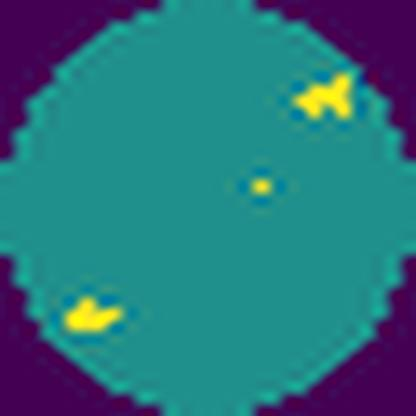Loc: (284, 66, 358, 127), (63, 290, 127, 340)
